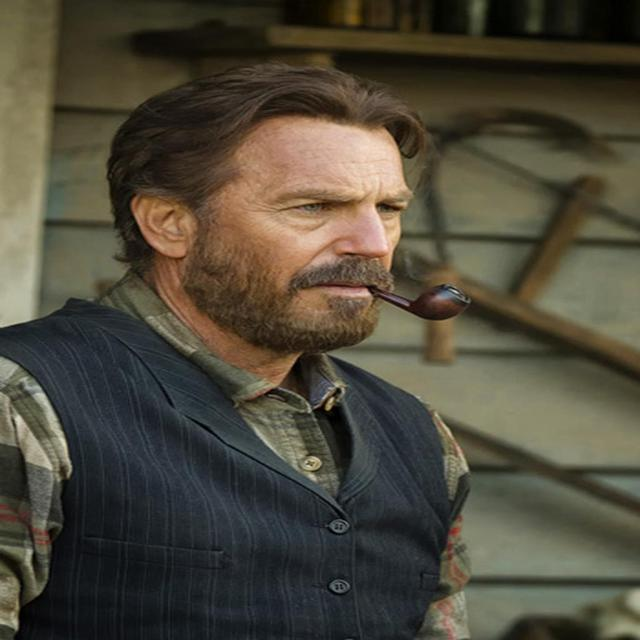smoking: (186, 87, 474, 342)
